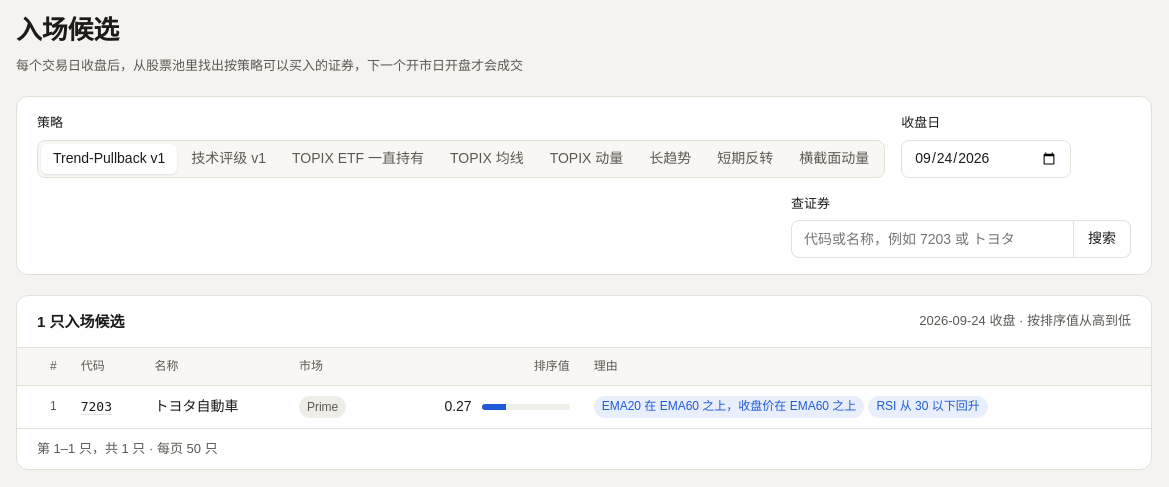
信号页 › TOPIX 均线没有候选时写明空仓的话今天收盘后不会买入 1306，链接到 1306 的详情页；有候选时理由是 TOPIX 在均线之上
The image size is (1169, 487).
Expected: the table named "入场候选" is shown, left=17, top=348, right=1151, bottom=428
Click the button "TOPIX 均线": (487, 159) left=438, top=144, right=536, bottom=174
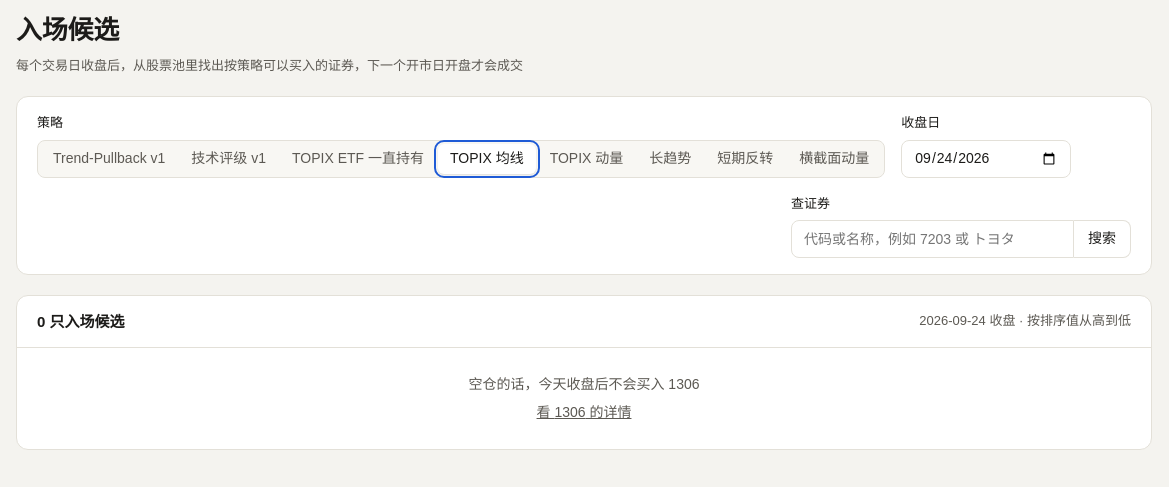
Result: the text "空仓的话，今天收盘后不会买入 1306" is shown at left=468, top=374, right=700, bottom=396
In the date field labelled "收盘日": (986, 159) left=901, top=140, right=1071, bottom=178, type "2026-09-18"
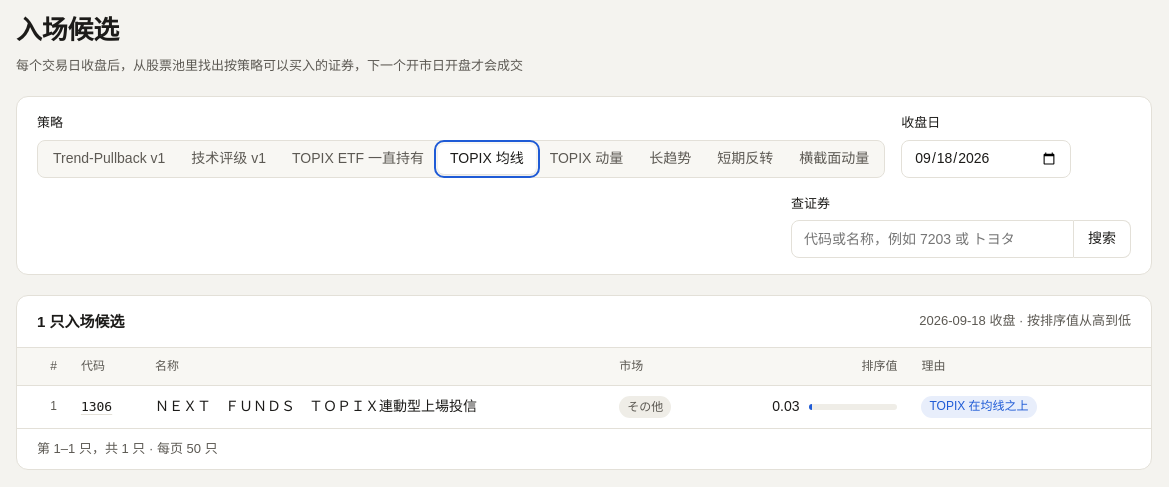
Result: the text "0.03" is shown at left=709, top=385, right=910, bottom=428
In the date field labelled "收盘日": (986, 159) left=901, top=140, right=1071, bottom=178, type "2026-09-17"
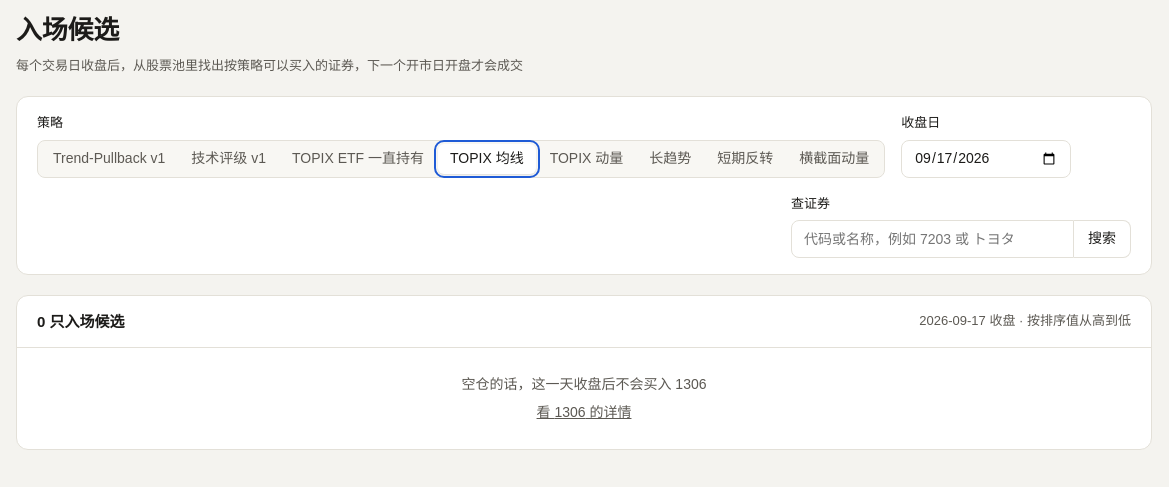
Result: the text "空仓的话，这一天收盘后不会买入 1306" is shown at left=462, top=374, right=706, bottom=396
